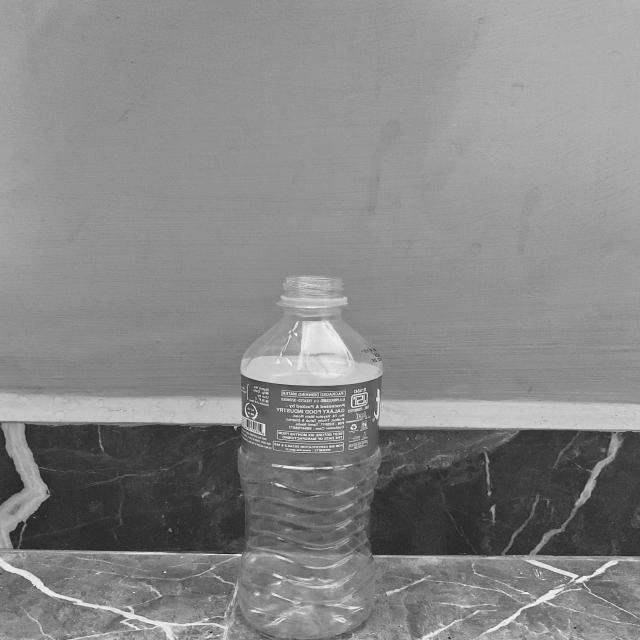open-cap: (280, 276, 346, 310)
